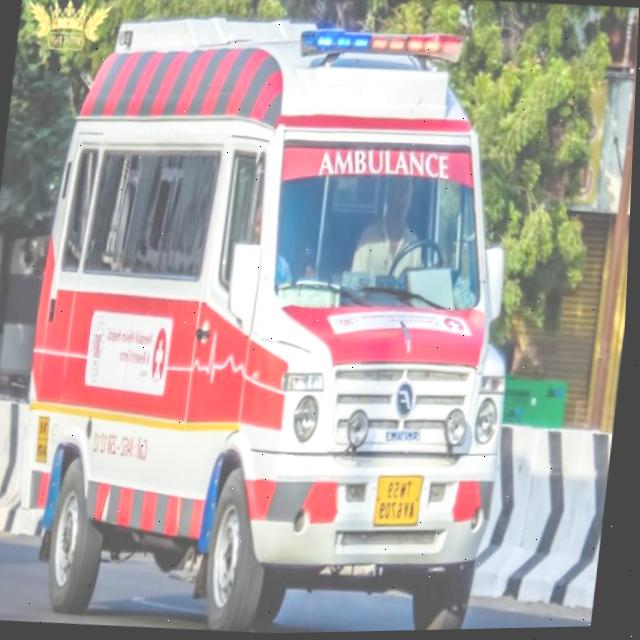emergency: (199, 0, 550, 636)
